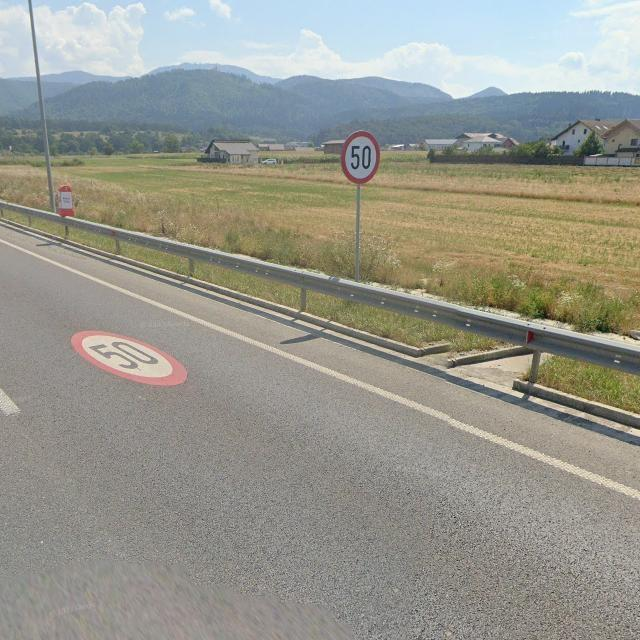forb_speed_over_50: (70, 328, 191, 388), (339, 130, 381, 188)
